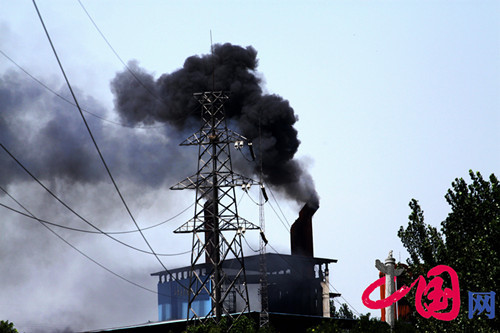dust: (167, 35, 320, 211)
